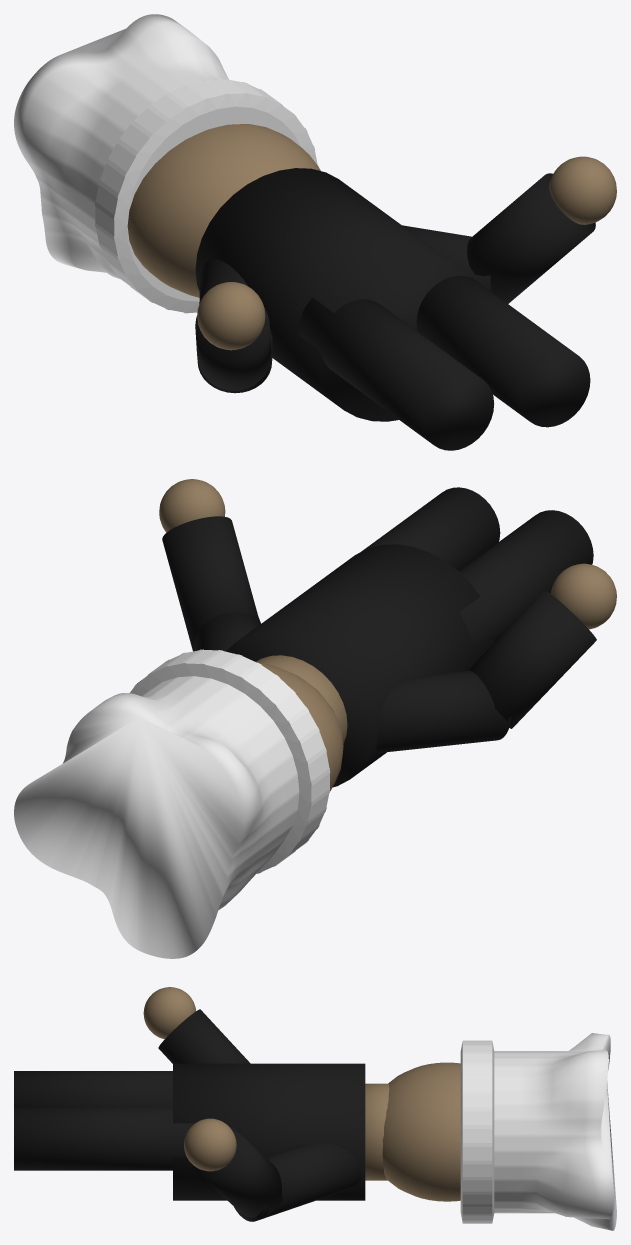
Rendered from StinkSteve.fbx.
3 views of the same model, one above another, from view 1: azimuth 30°, elevation 25°; view 2: azimuth 150°, elevation 25°; view 3: azimuth 270°, elevation 25° (orthographic). The views are drawn at different scales.
Parts seen in each view (by area): view 1: Torso; view 2: Torso; view 3: Torso.
Part boxes in pixels (x1,y1,x2,y2): Torso: [14, 14, 616, 450]; Torso: [14, 479, 616, 958]; Torso: [14, 987, 616, 1230].
Size of the model in its own units: 406 by 215 by 627.
